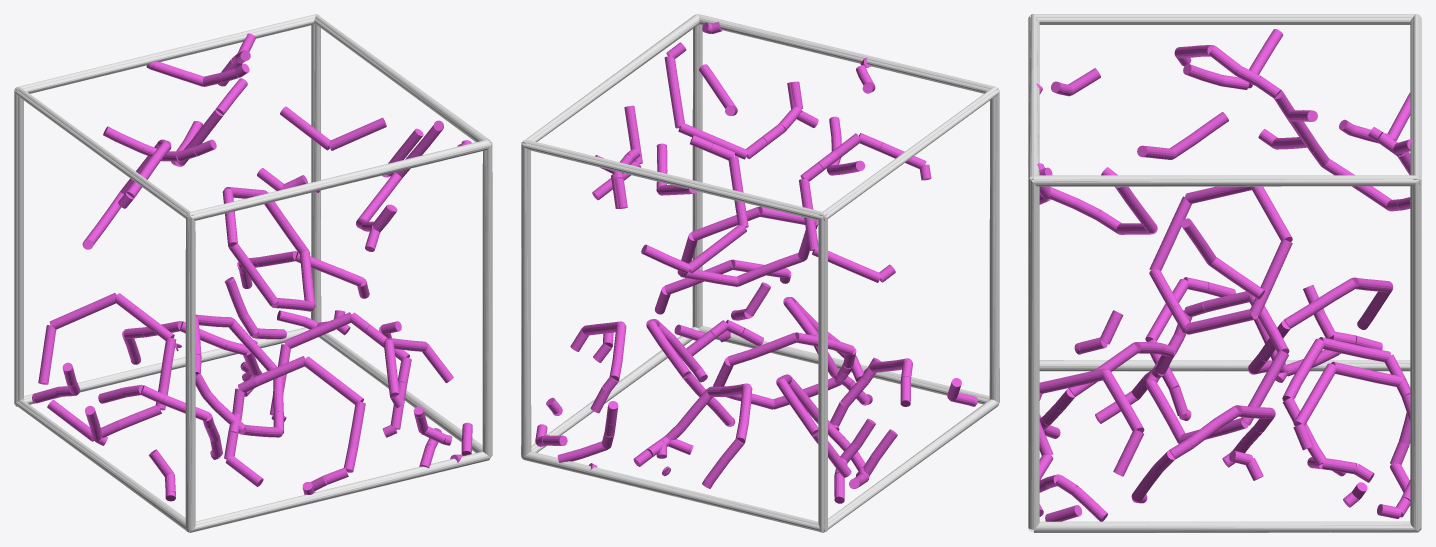
Rendered from dislocation100.glb.
The picture shows the model from 3 angles, left to right: view 1: azimuth 30°, elevation 25°; view 2: azimuth 150°, elevation 25°; view 3: azimuth 270°, elevation 25°; orthographic projection. The views are drawn at different scales.
Visible parts, largest first — view 1: Shape_IndexedLineSet.001, Shape_IndexedLineSet; view 2: Shape_IndexedLineSet.001, Shape_IndexedLineSet; view 3: Shape_IndexedLineSet.001, Shape_IndexedLineSet.
Boxes of the visible parts, box(x1,y1,x2,y2) form: Shape_IndexedLineSet.001: box(32, 33, 472, 501); Shape_IndexedLineSet: box(14, 14, 492, 532); Shape_IndexedLineSet.001: box(535, 22, 977, 503); Shape_IndexedLineSet: box(521, 14, 999, 532); Shape_IndexedLineSet.001: box(1036, 29, 1412, 521); Shape_IndexedLineSet: box(1028, 14, 1421, 532).
Size of the model in its own units: 1.03 by 1.03 by 1.03.
